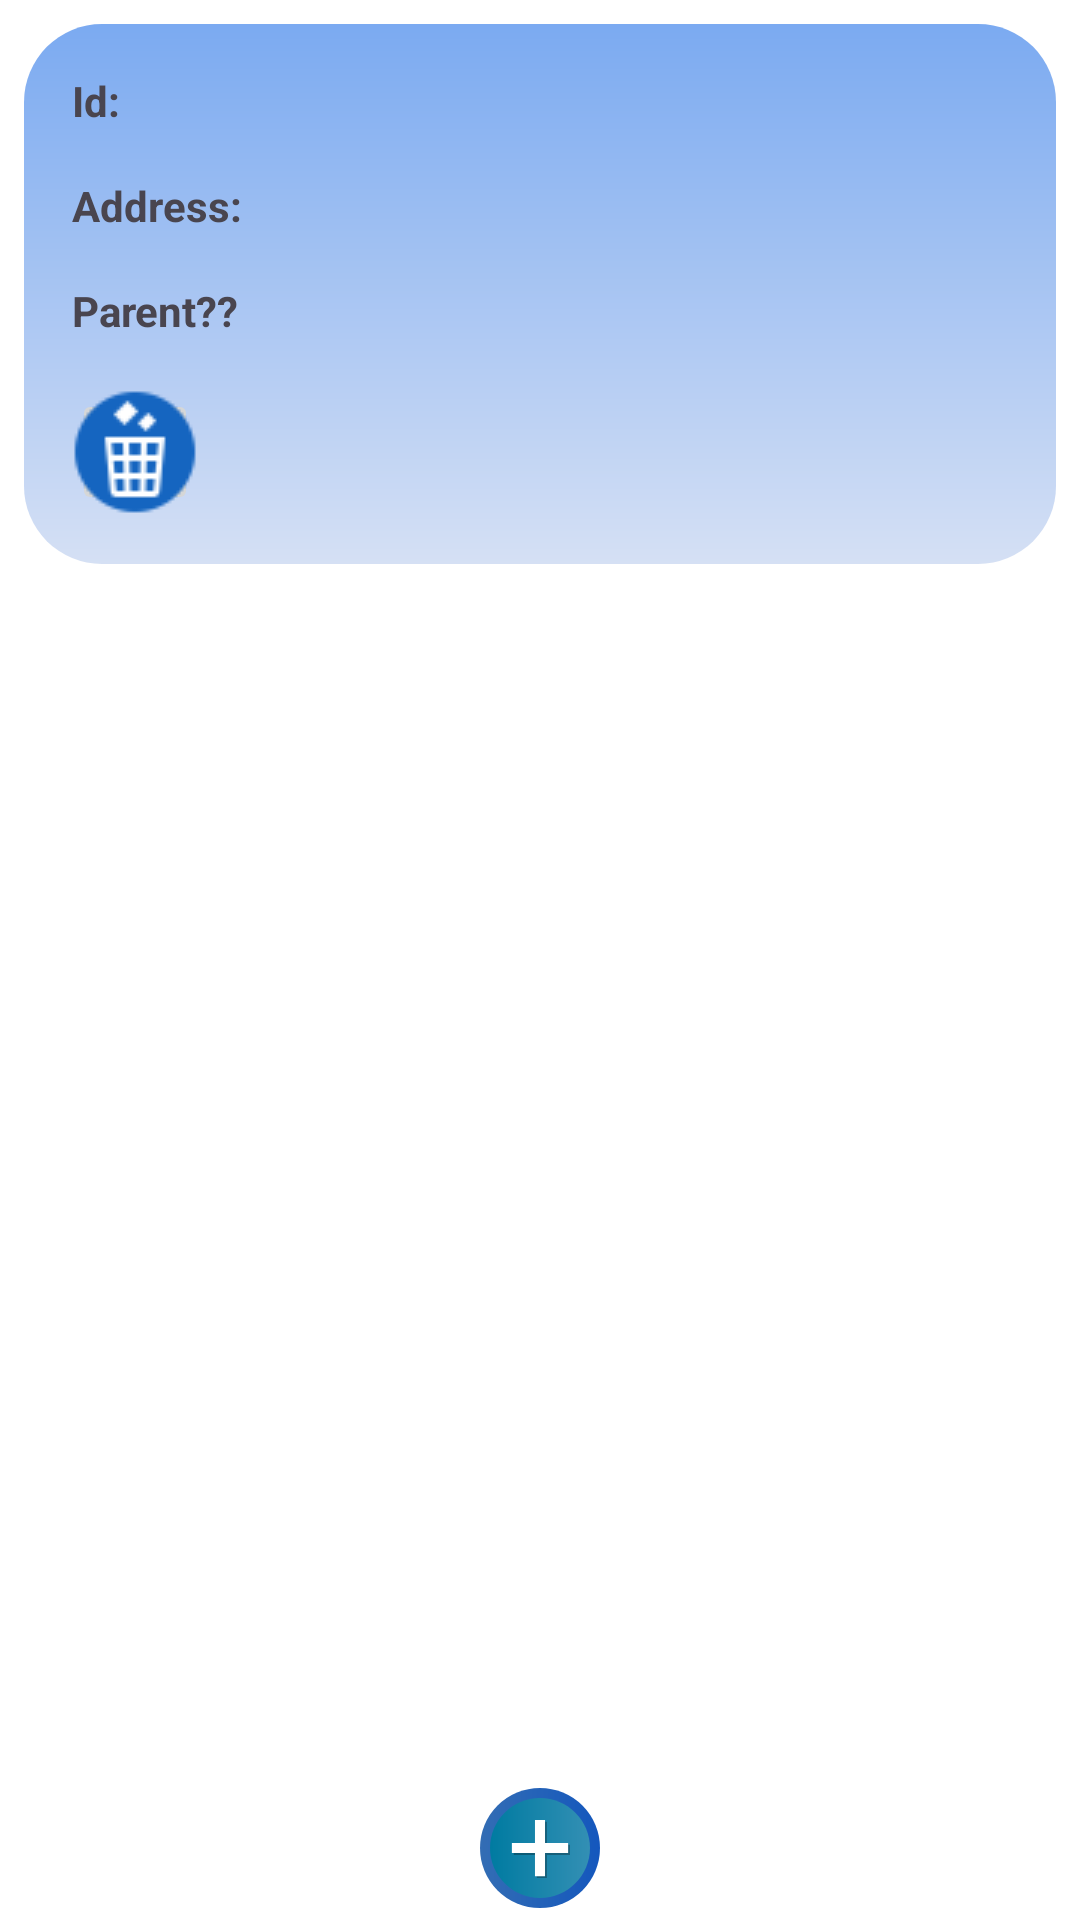

Icons on this 1080px x 1920px Android screen, each with its box as (x1, y1, x2, y2):
add: (480, 1788, 600, 1908)
delete: (74, 391, 196, 513)
